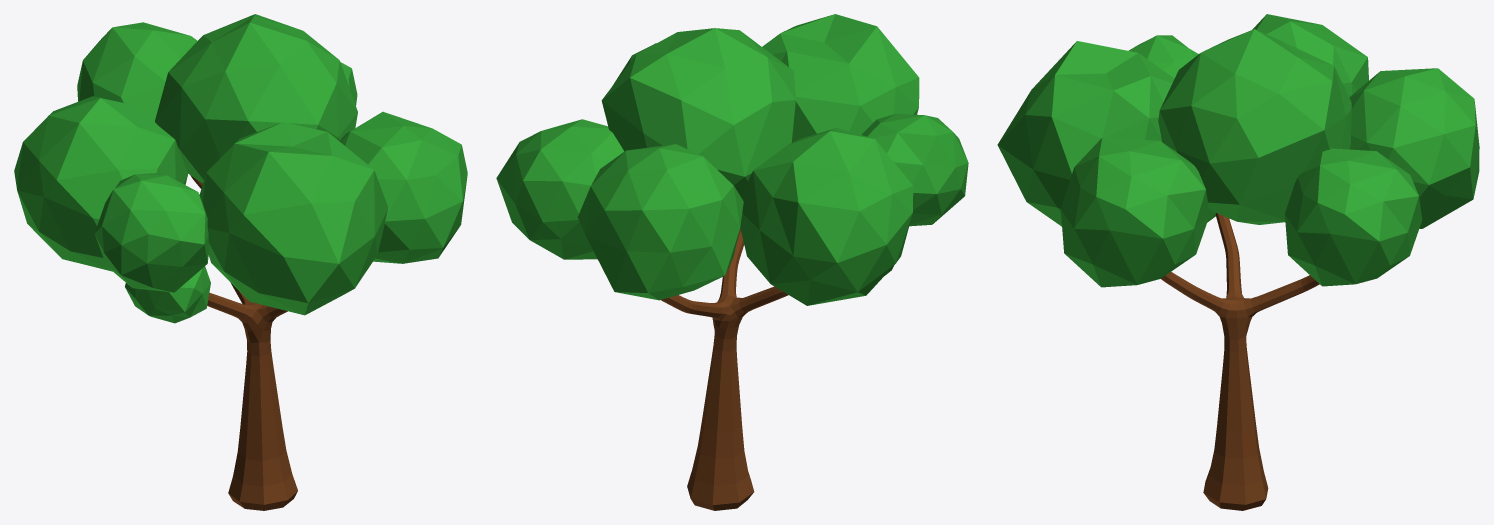
File: Laubbaum.fbx
The picture shows the model from 3 angles, left to right: view 1: azimuth 30°, elevation 25°; view 2: azimuth 150°, elevation 25°; view 3: azimuth 270°, elevation 25°; orthographic projection. The views are drawn at different scales.
Parts seen in each view (by area): view 1: Icosphere.001, Plane; view 2: Icosphere.001, Plane; view 3: Icosphere.001, Plane.
Part boxes in pixels (bbox=[...]): Icosphere.001: bbox=[14, 14, 467, 323]; Plane: bbox=[190, 175, 297, 510]; Icosphere.001: bbox=[496, 14, 968, 305]; Plane: bbox=[661, 228, 788, 510]; Icosphere.001: bbox=[997, 14, 1479, 287]; Plane: bbox=[1161, 213, 1319, 510].
Size of the model in its own units: 794 by 1018 by 944.
